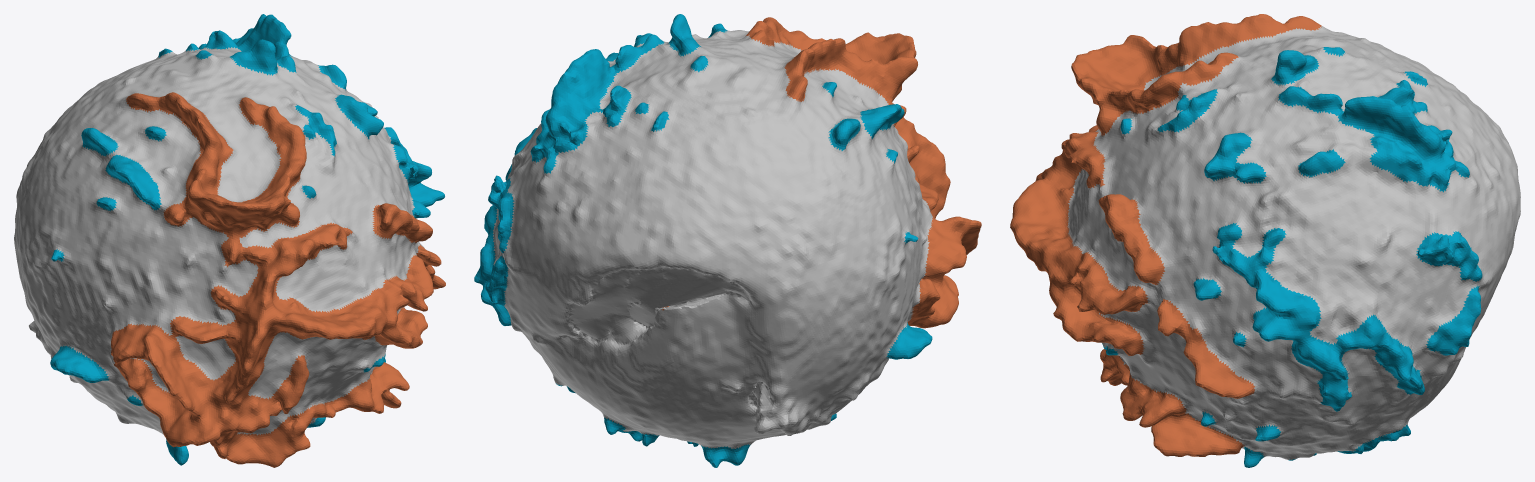
3 renders of one model, left to right at view 1: azimuth 30°, elevation 25°; view 2: azimuth 150°, elevation 25°; view 3: azimuth 270°, elevation 25°, orthographic. The views are drawn at different scales.
Bounding box in the file's own units: 152 × 144 × 160.
